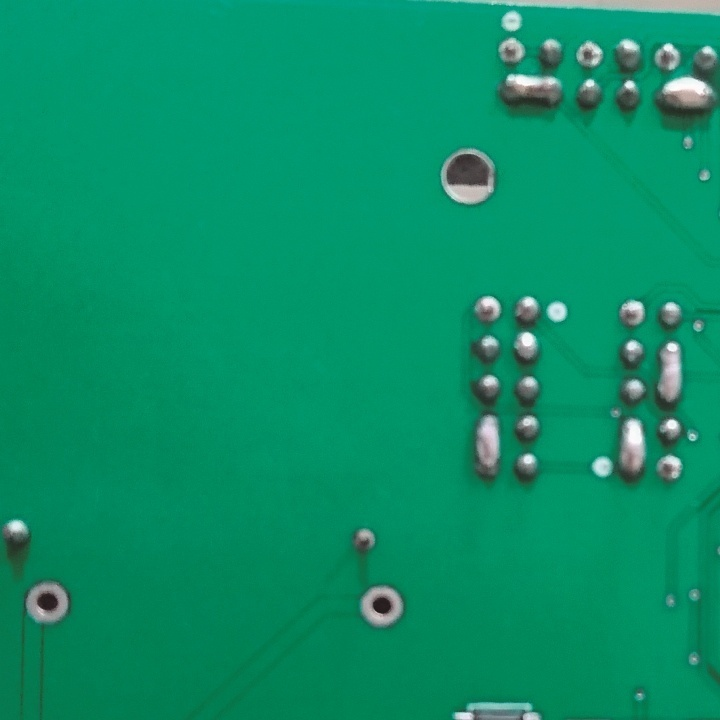F: (21, 580, 73, 628), (358, 581, 404, 630), (350, 523, 379, 557), (576, 39, 606, 71), (617, 296, 646, 329), (499, 36, 528, 67), (653, 43, 684, 72), (473, 294, 501, 326), (656, 453, 683, 483)
P: (656, 74, 717, 115), (500, 72, 565, 109), (616, 415, 647, 480), (656, 340, 684, 407), (474, 412, 501, 477)
